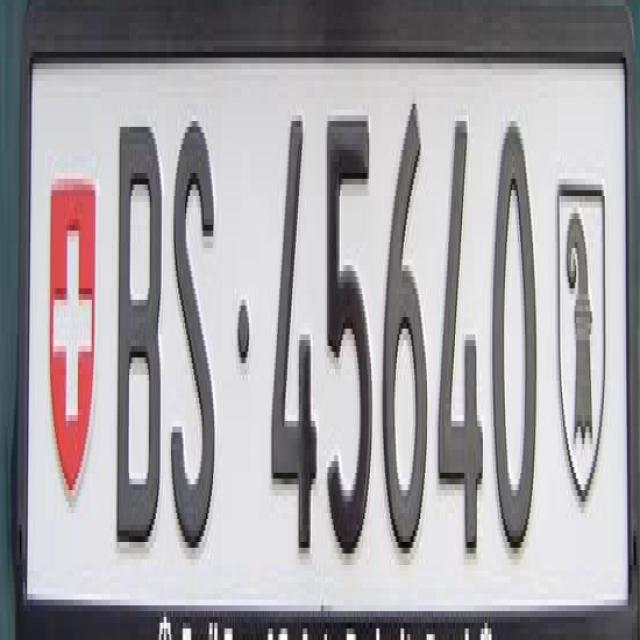Autre: (21, 14, 630, 613)
